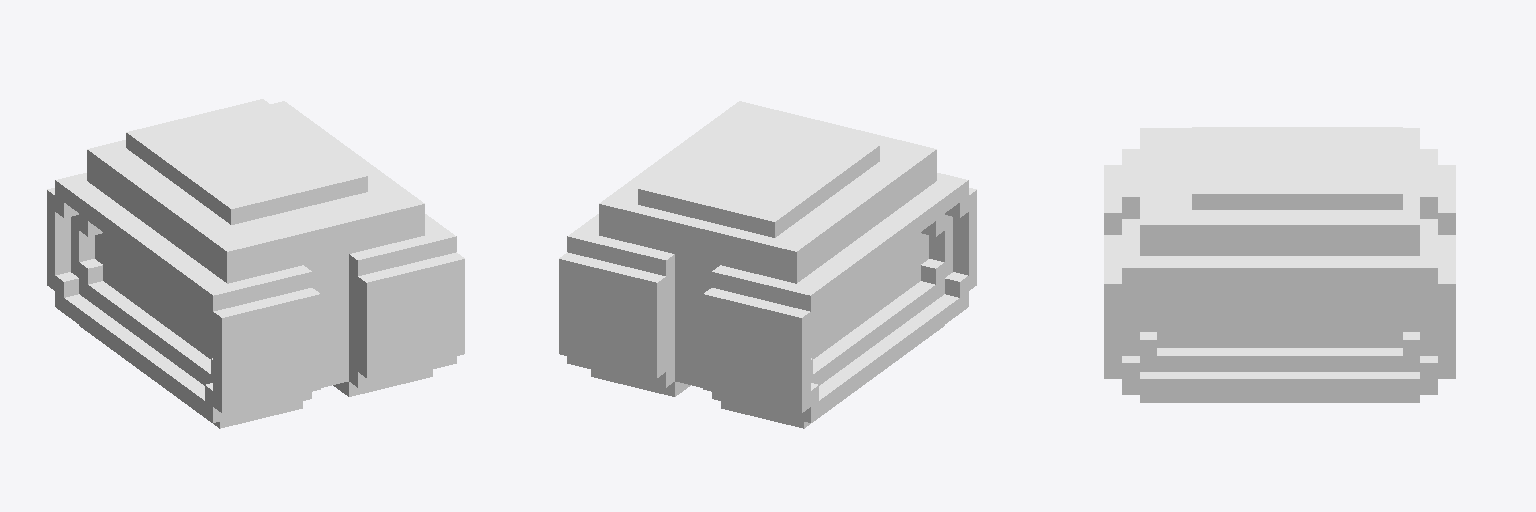
The model's file is tank_base.obj.
3 views of the same model, side by side, from view 1: azimuth 30°, elevation 25°; view 2: azimuth 150°, elevation 25°; view 3: azimuth 270°, elevation 25° (orthographic).
Visible parts, largest first — view 1: object 1; view 2: object 1; view 3: object 1.
Part boxes in pixels (left/top/right/bottom): object 1: left=47, top=99, right=464, bottom=428; object 1: left=559, top=101, right=976, bottom=428; object 1: left=1104, top=127, right=1455, bottom=402.
Bounding box in the file's own units: 3.2 × 2.4 × 4.